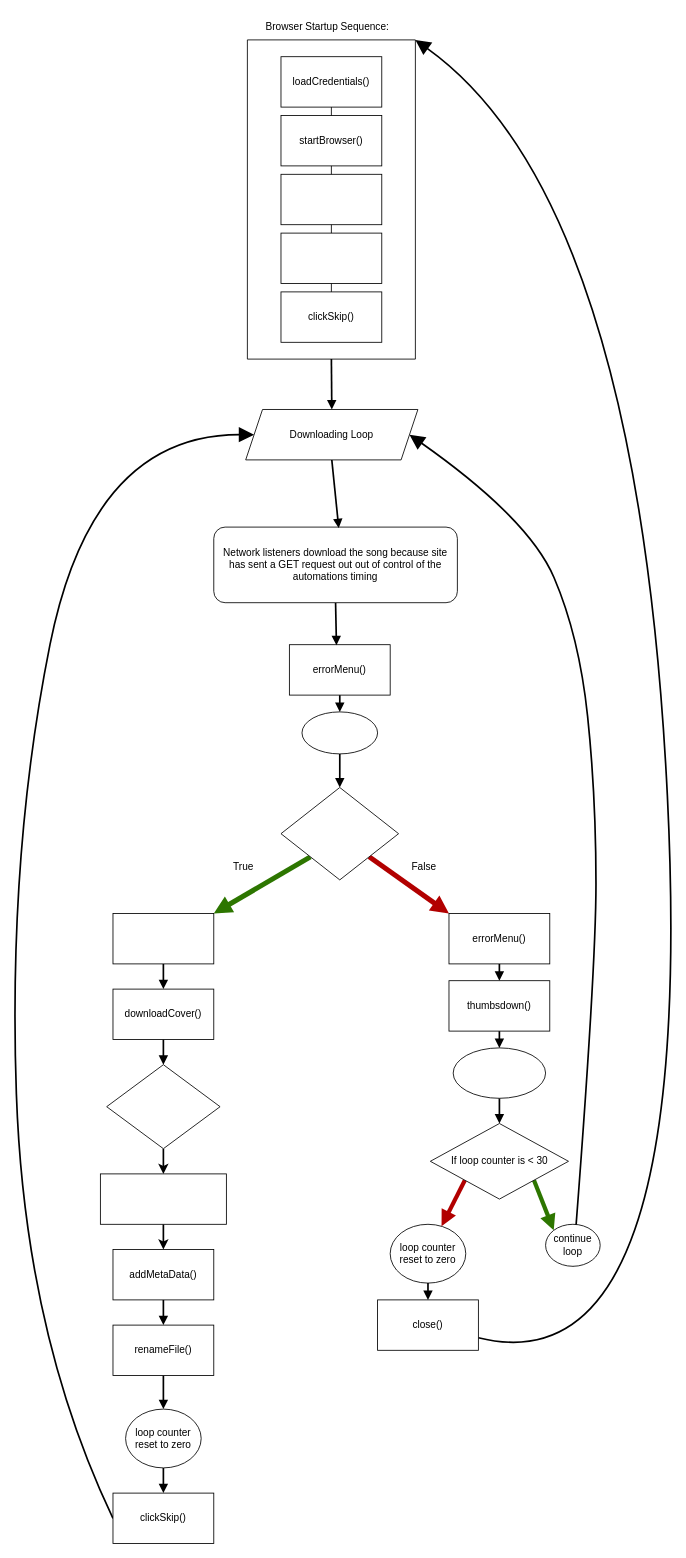
The diagram is 686 pixels wide and 1558 high, and some of its shapes have lost their labels. The shapes that lost their labels are listed below. From the top down, each one's box as (x1, y1, x2, y2) in pixels, then its label:
(280, 173, 382, 225): login()
(280, 232, 382, 284): eventListeners()
(301, 711, 378, 754): time.sleep()
(280, 787, 399, 880): IF isSongUnque()
(112, 913, 214, 964): clickPlayPause()
(452, 1047, 546, 1098): +1 to the loop counter
(106, 1064, 220, 1149): IF confirmCover()
(100, 1173, 226, 1224): downloadCoverImage()
